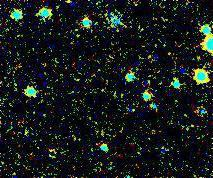star: (168, 51, 198, 81)
